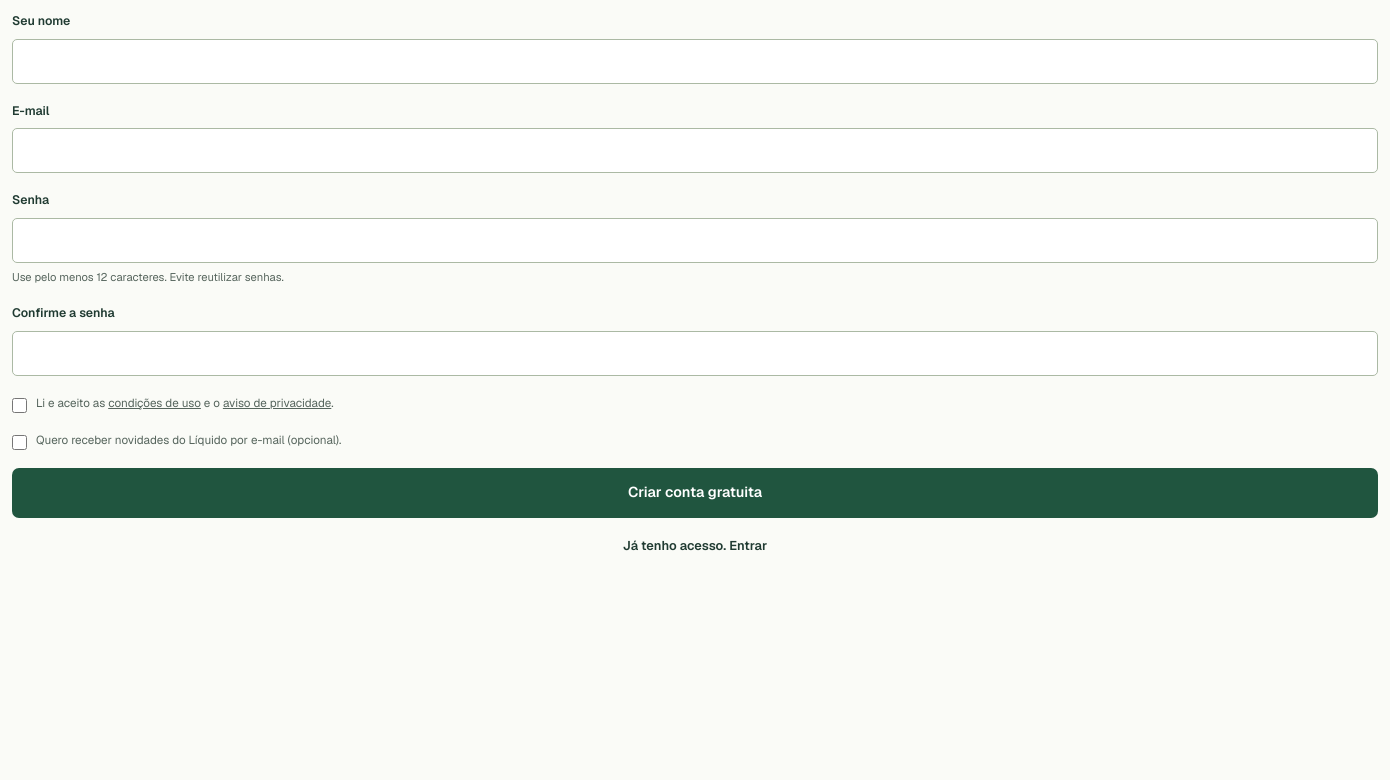
it: AuthForm › signUp_mismatchedPassword_preventsRequest
Type "Teste" into the field labelled "Seu nome".
click(695, 61); type("Teste")  # box [12,39,1378,84]
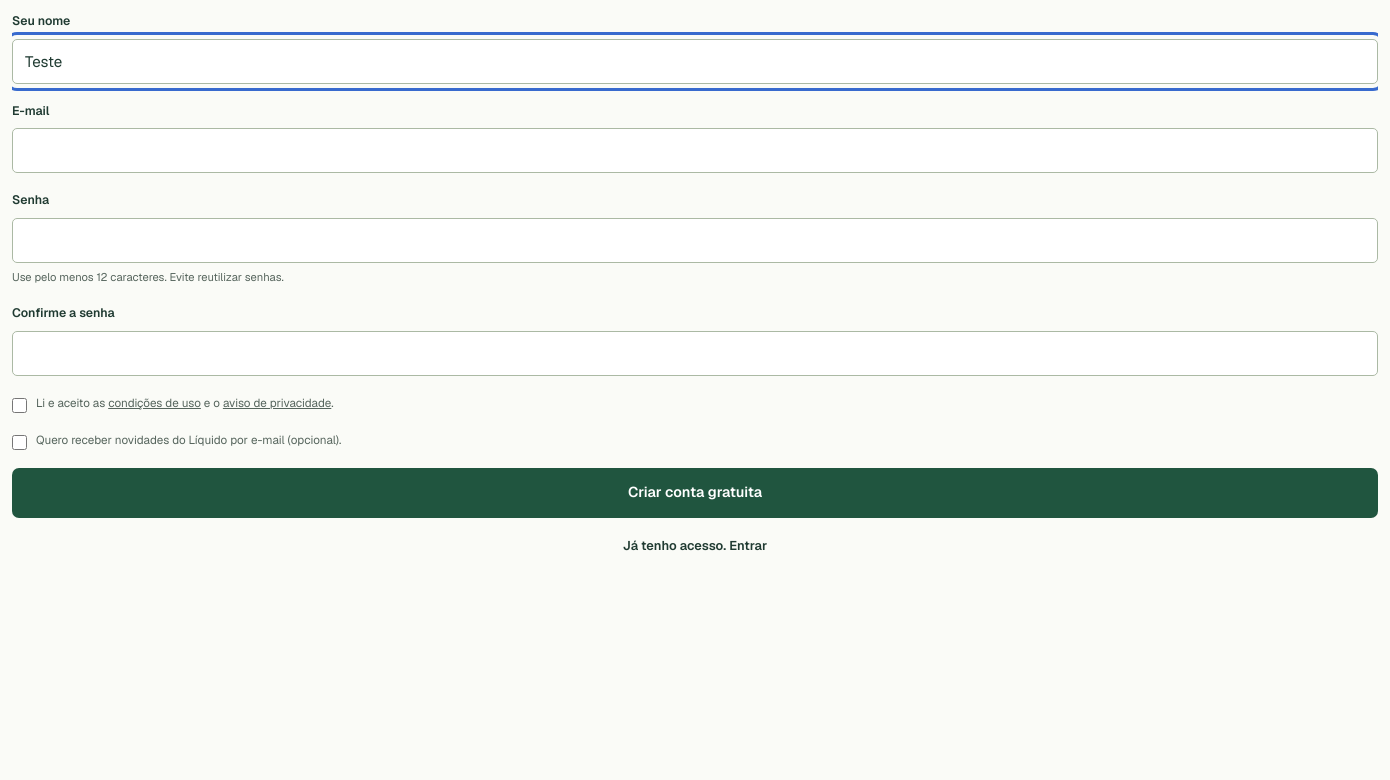
Type "teste@precopronto.test" into the field labelled "E-mail".
click(695, 151); type("teste@precopronto.test")  # box [12,128,1378,173]
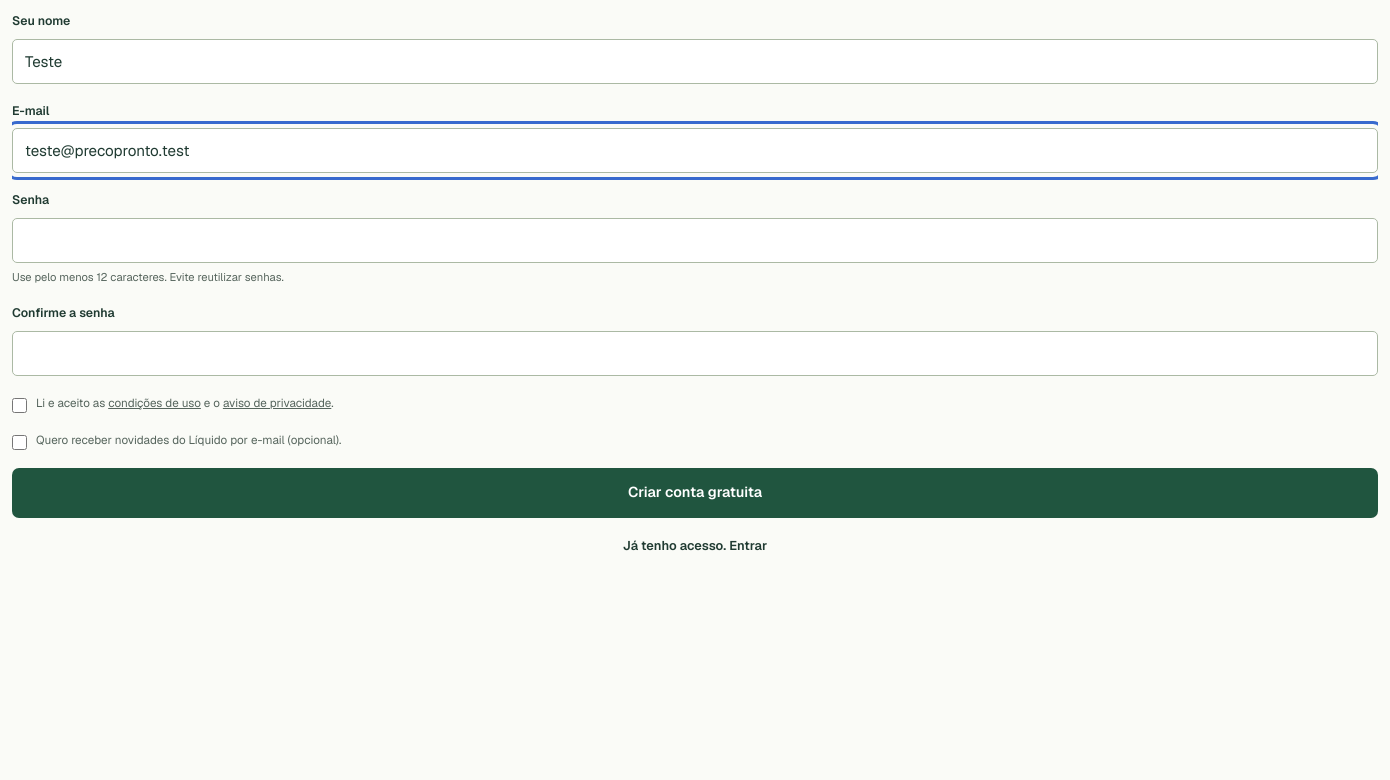
Type "senha-de-teste-segura" into the password field labelled "Senha".
click(695, 241); type("senha-de-teste-segura")  # box [12,218,1378,263]
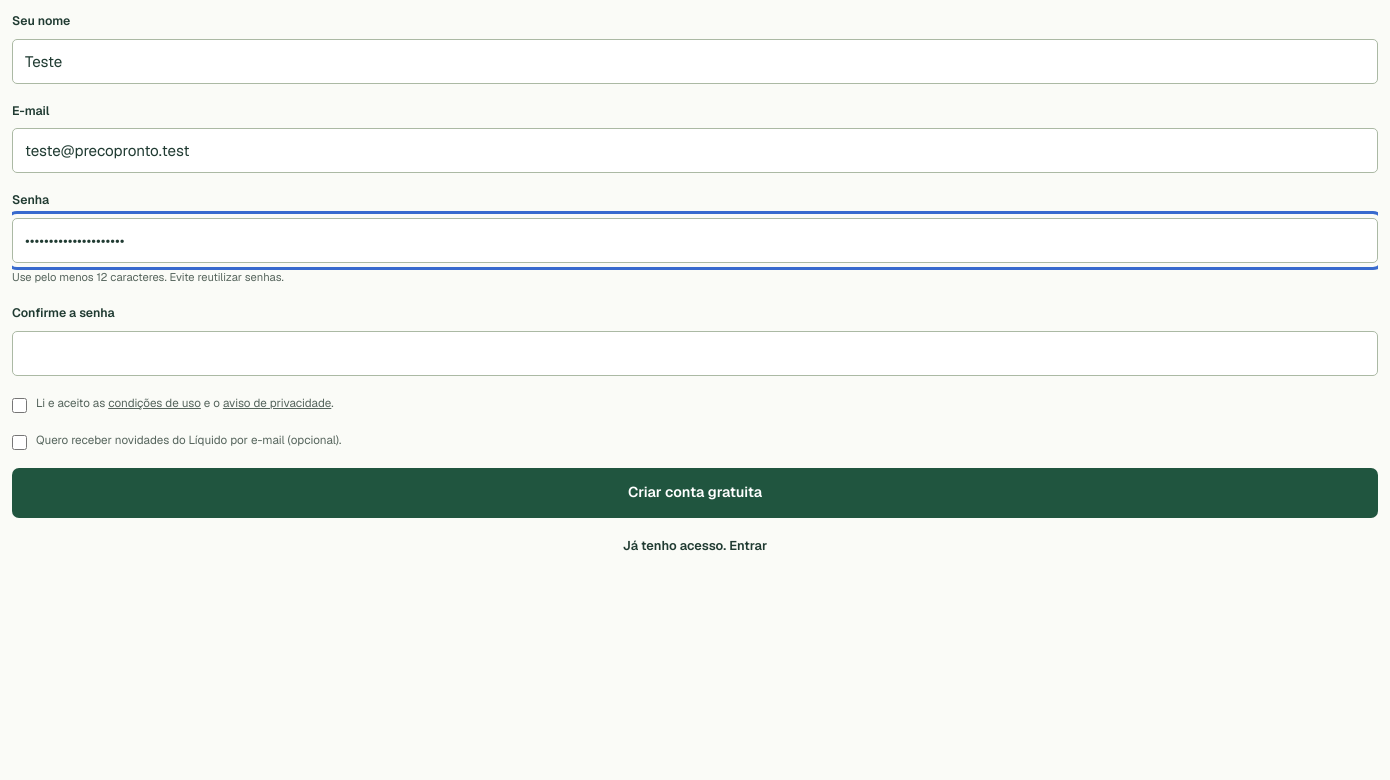
Type "outra-senha-diferente" into the password field labelled "Confirme a senha".
click(695, 353); type("outra-senha-diferente")  # box [12,330,1378,376]
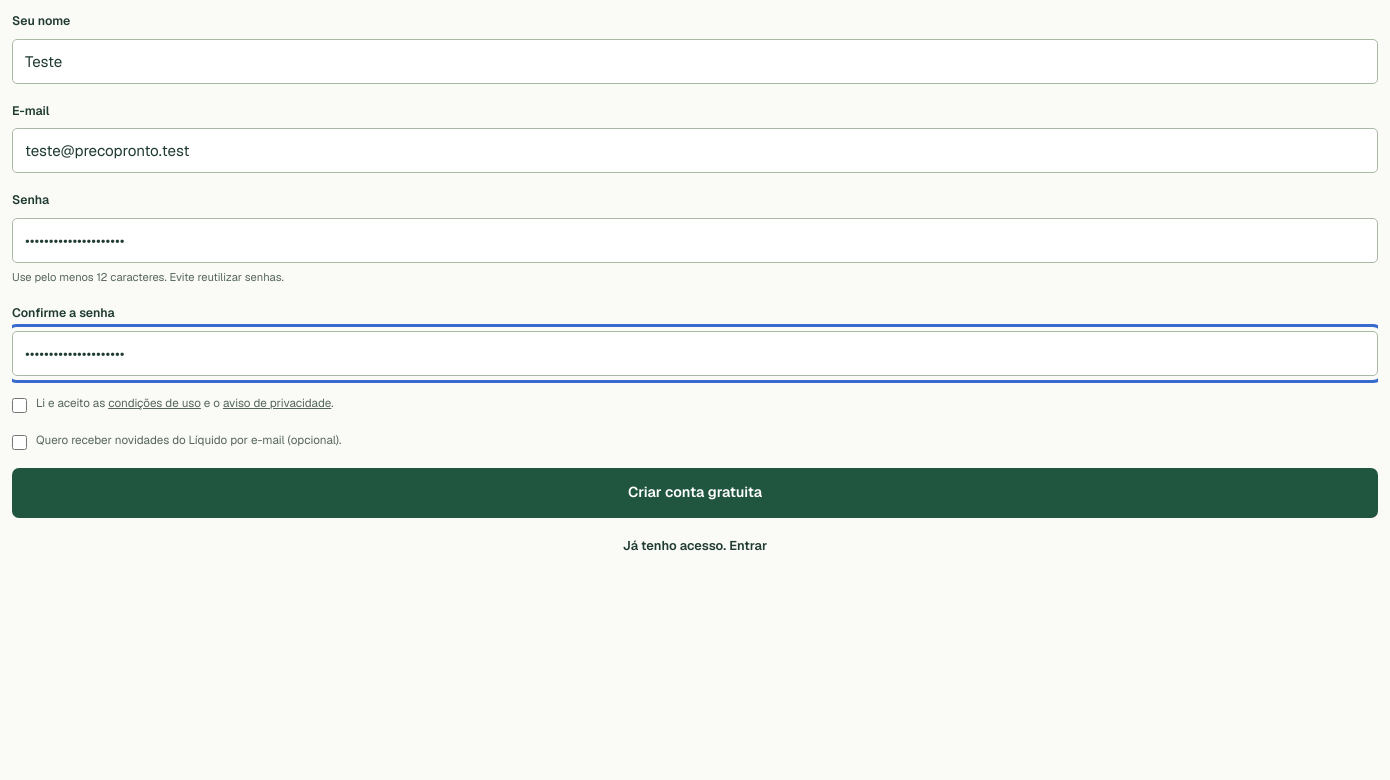
Click the checkbox labelled "Li e aceito as condições de uso e o aviso de privacidade .".
click(20, 405)  # box [12,398,27,412]
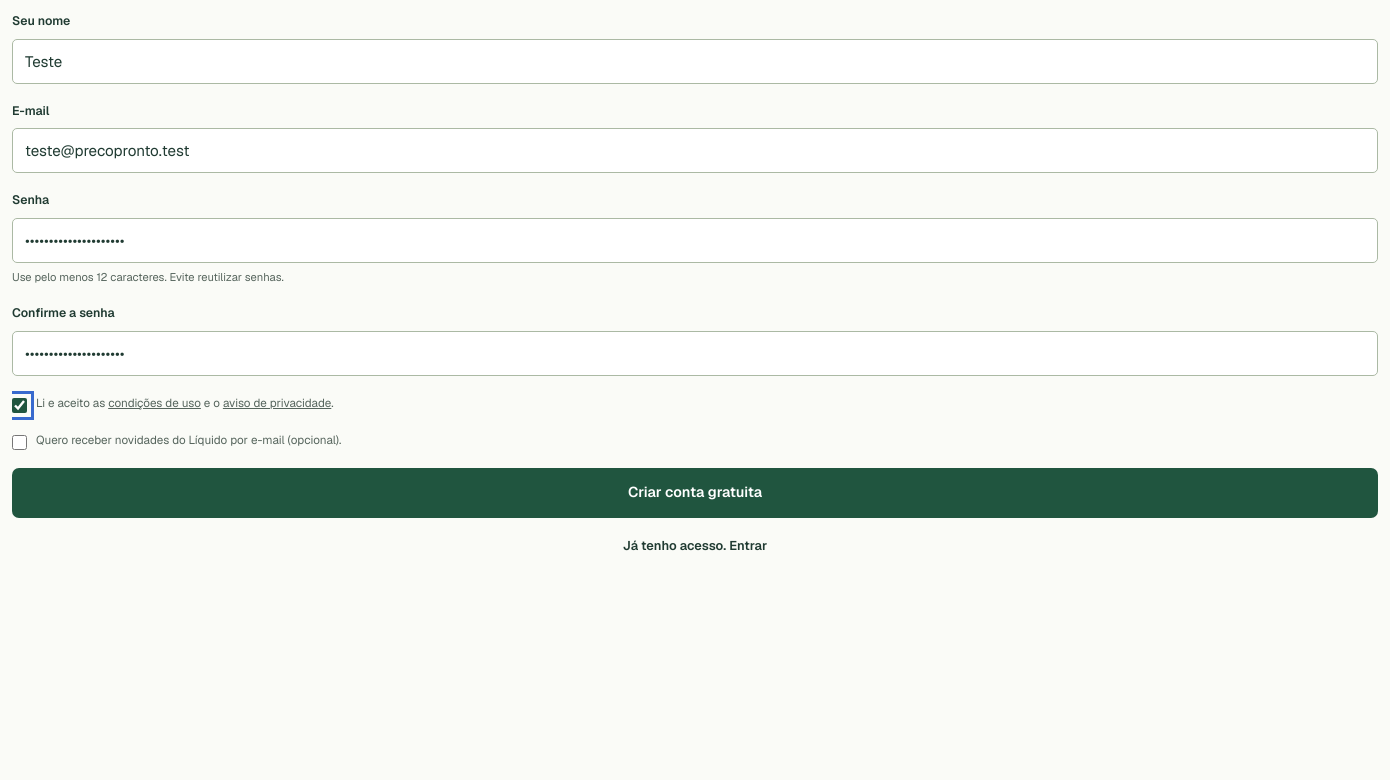
Click the button "Criar conta gratuita".
click(695, 492)  # box [12,468,1378,518]
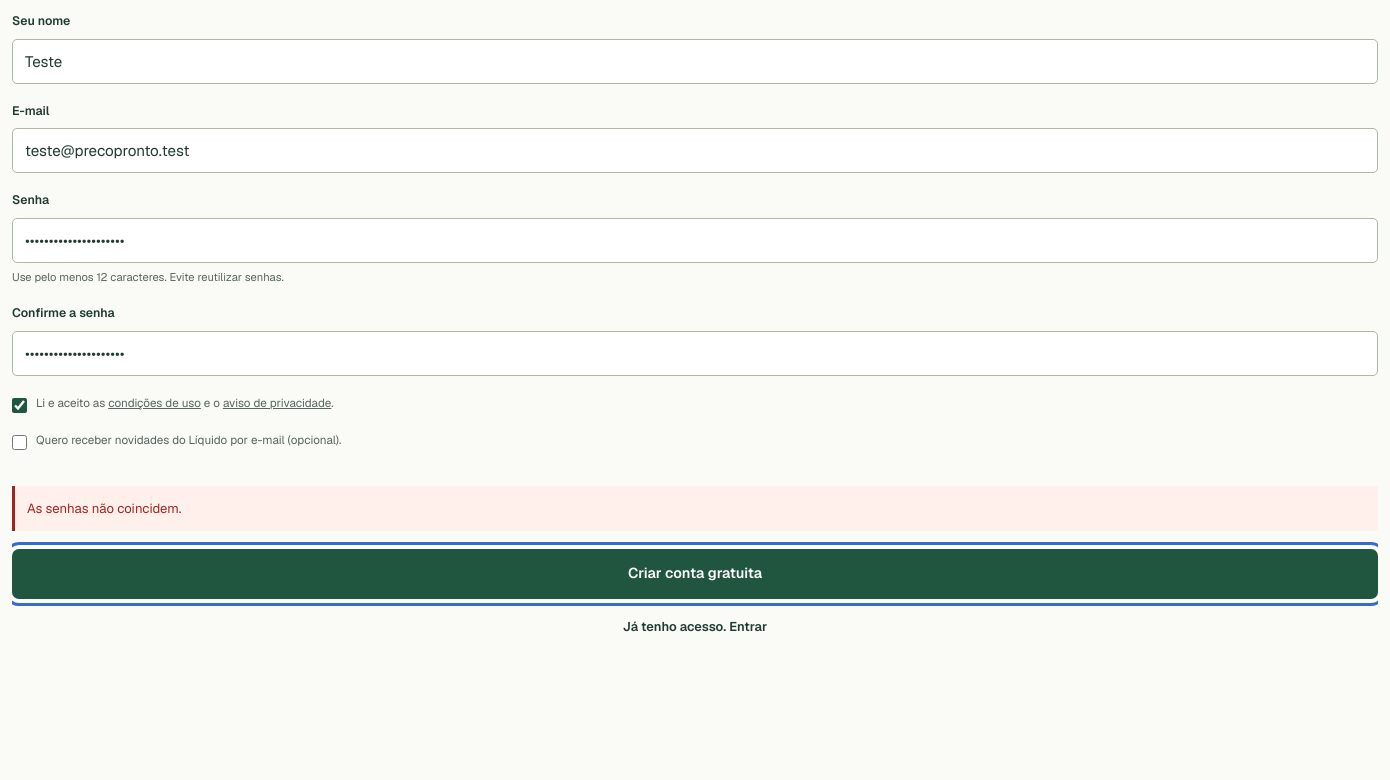
Expected: the message shows "senhas não coincidem", [27,500,182,516]
